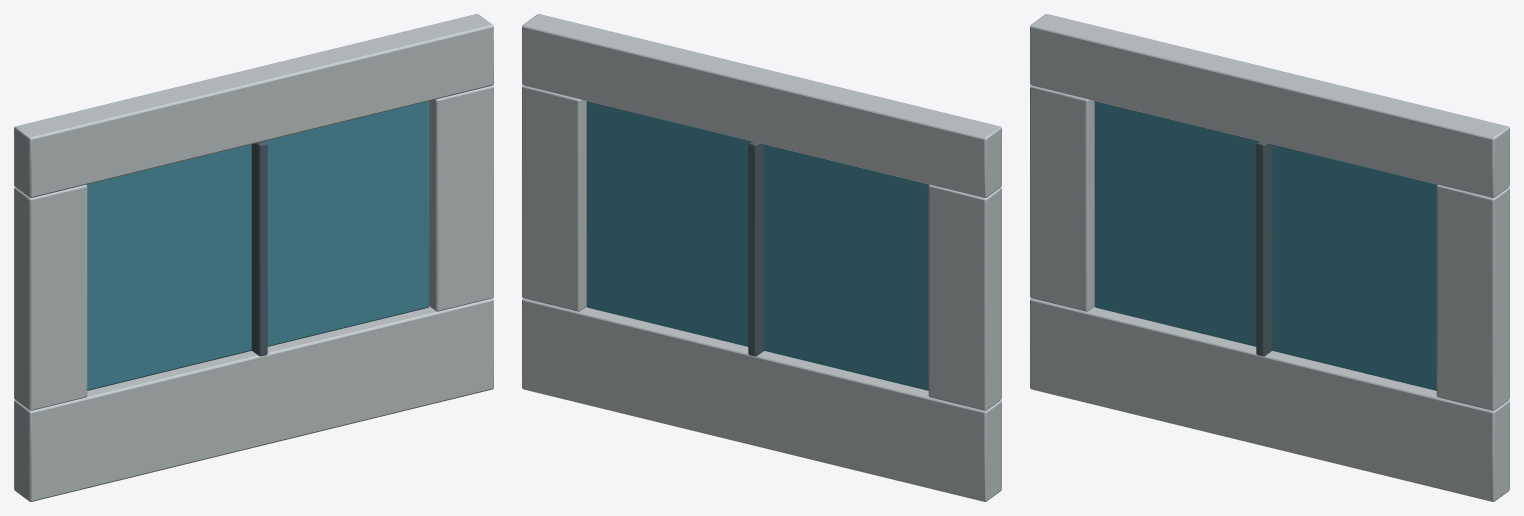
File: MOD_Facade_Concrete_A.glb
The picture shows the model from 3 angles, left to right: view 1: azimuth 30°, elevation 25°; view 2: azimuth 150°, elevation 25°; view 3: azimuth 330°, elevation 25°; orthographic projection.
Visible parts, largest first — view 1: MOD_Facade_Concrete_A; view 2: MOD_Facade_Concrete_A; view 3: MOD_Facade_Concrete_A.
Boxes of the visible parts, box(x1,y1,x2,y2) form: MOD_Facade_Concrete_A: box(14, 14, 493, 501); MOD_Facade_Concrete_A: box(522, 14, 1001, 501); MOD_Facade_Concrete_A: box(1030, 14, 1509, 501).
Size of the model in its own units: 4 by 3 by 0.3.
